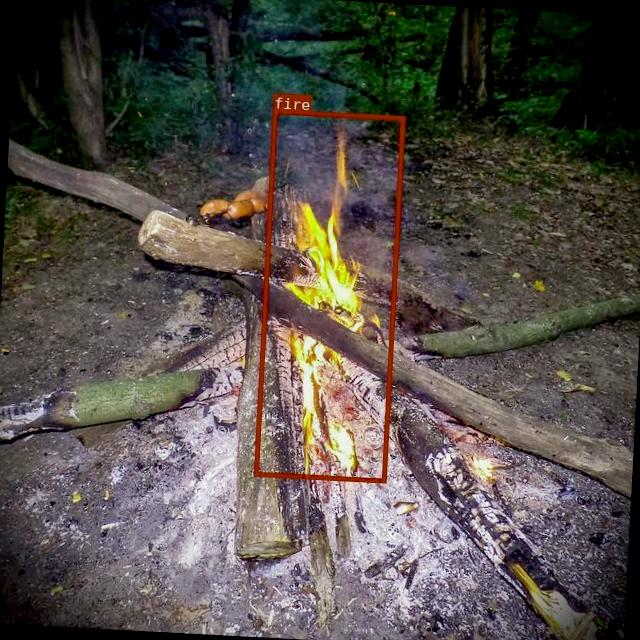fire: (254, 109, 405, 482)
